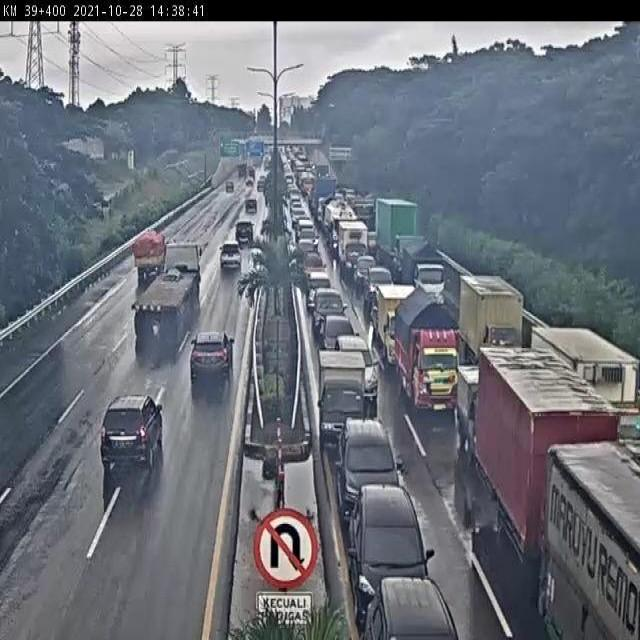big truck: (480, 348, 618, 571), (528, 327, 635, 444), (131, 241, 201, 339)
car: (348, 482, 438, 618), (336, 416, 403, 519), (97, 394, 164, 474), (335, 331, 380, 406), (188, 327, 236, 385), (311, 285, 346, 332), (364, 265, 394, 311), (323, 312, 356, 345), (305, 270, 332, 310), (218, 240, 243, 268)
small truck: (399, 282, 459, 414), (317, 350, 368, 450), (461, 277, 521, 356), (460, 358, 506, 450), (380, 284, 419, 371), (405, 235, 446, 305)
